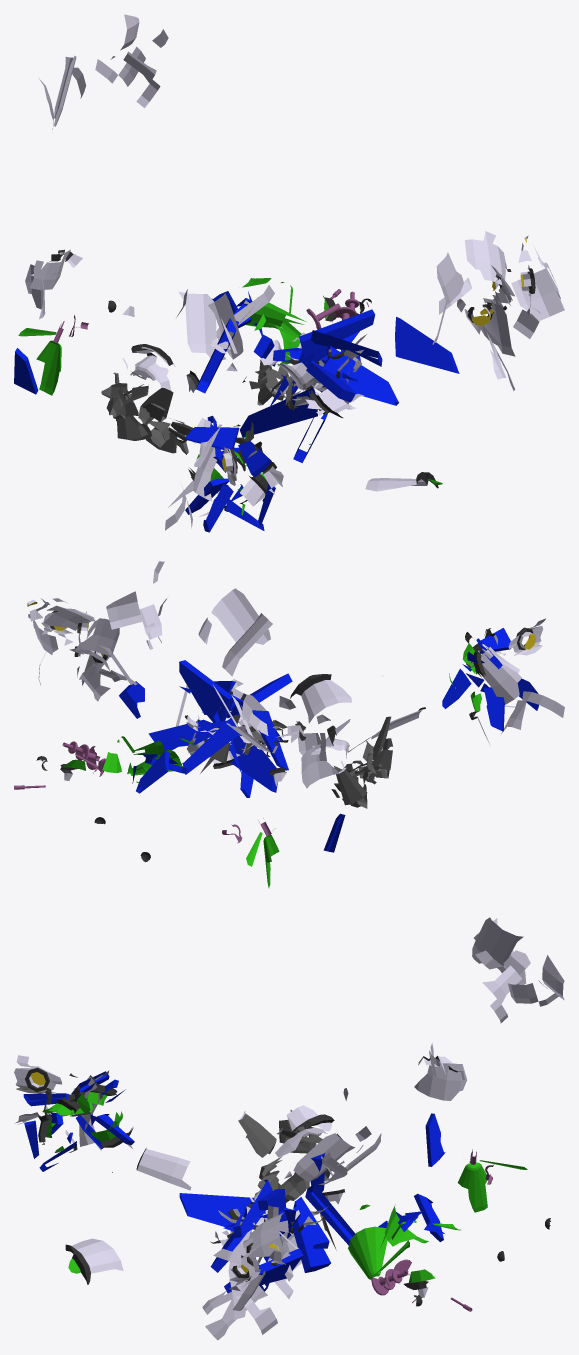
Rendered from rubble.fbx.
The picture shows the model from 3 angles, top to bottom: view 1: azimuth 30°, elevation 25°; view 2: azimuth 150°, elevation 25°; view 3: azimuth 270°, elevation 25°; orthographic projection. The views are drawn at different scales.
Parts seen in each view (by area): view 1: SpaceRocket.251, SpaceRocket.255, SpaceRocket.173, SpaceRocket.242, SpaceRocket.253, SpaceRocket.122, SpaceRocket.108, SpaceRocket.001, SpaceRocket.270, SpaceRocket.252, SpaceRocket.070, SpaceRocket.243 (+8 smaller); view 2: SpaceRocket.253, SpaceRocket.078, SpaceRocket.004, SpaceRocket.255, SpaceRocket.059, SpaceRocket.065, SpaceRocket.246, SpaceRocket.054, SpaceRocket.070, SpaceRocket.248, SpaceRocket.063, SpaceRocket.257 (+14 smaller); view 3: SpaceRocket.243, SpaceRocket.004, SpaceRocket.014, SpaceRocket.091, SpaceRocket.078, SpaceRocket.153, SpaceRocket.248, SpaceRocket.001, SpaceRocket.118, SpaceRocket.246, SpaceRocket.251, SpaceRocket.089 (+12 smaller).
Boxes of the visible parts, x1,y1,x2,y2 form: SpaceRocket.251: (395,317,459,373); SpaceRocket.255: (240,387,317,437); SpaceRocket.173: (178,291,214,357); SpaceRocket.242: (327,346,398,405); SpaceRocket.253: (299,309,375,364); SpaceRocket.122: (517,268,564,319); SpaceRocket.108: (473,301,509,354); SpaceRocket.001: (36,328,61,395); SpaceRocket.270: (185,427,239,449); SpaceRocket.252: (311,330,382,366); SpaceRocket.070: (436,252,463,304); SpaceRocket.243: (306,361,355,402); SpaceRocket.253: (179,660,233,722); SpaceRocket.078: (211,588,270,644); SpaceRocket.004: (290,674,351,723); SpaceRocket.255: (229,734,277,792); SpaceRocket.059: (472,646,521,704); SpaceRocket.065: (222,613,272,676); SpaceRocket.246: (183,717,239,774); SpaceRocket.054: (106,591,142,629); SpaceRocket.070: (80,618,119,657); SpaceRocket.248: (148,719,220,750); SpaceRocket.063: (334,766,367,805); SpaceRocket.257: (252,710,288,770); SpaceRocket.243: (179,1193,254,1232); SpaceRocket.004: (65,1238,123,1284); SpaceRocket.014: (348,1226,387,1279); SpaceRocket.091: (136,1148,191,1190); SpaceRocket.078: (472,917,523,968); SpaceRocket.153: (293,1133,354,1182); SpaceRocket.248: (292,1214,330,1272); SpaceRocket.001: (457,1156,487,1212); SpaceRocket.118: (202,1282,267,1340); SpaceRocket.246: (305,1184,355,1245); SpaceRocket.251: (224,1248,303,1293); SpaceRocket.089: (248,1220,281,1257).
Size of the model in its own units: 5279 by 3627 by 5413.
